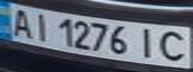1: (51, 16, 75, 47)
2: (69, 17, 93, 52)
6: (109, 22, 133, 56)
7: (87, 20, 112, 53)
A: (3, 6, 36, 38)
C: (154, 28, 193, 63)
I: (133, 25, 160, 60), (27, 11, 54, 43)
